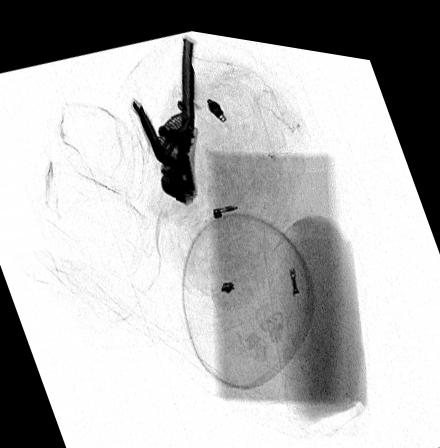Pliers: (128, 30, 198, 202)
